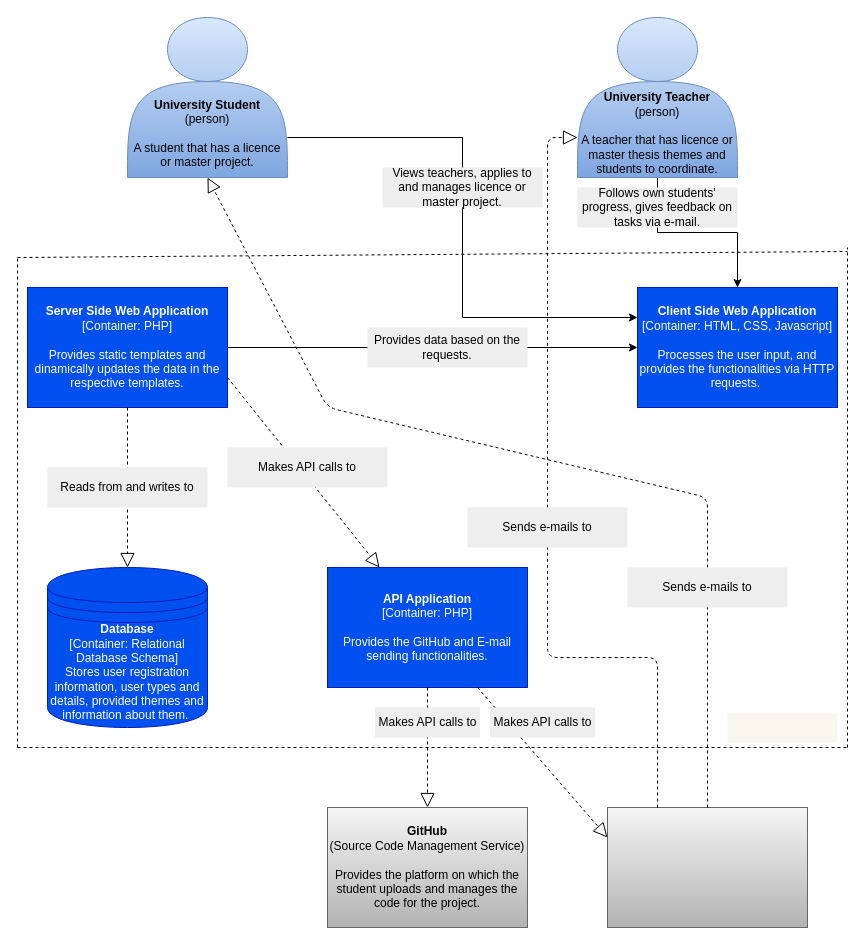
This 866x945 diagram has some shape labels left out. The shapes that lost their labels are listed below. From the top down, each one's centre as x and y in pixels, then its label:
point (782, 727): AcaTisM (Web Application)
point (707, 867): E-mail Service (Software System) via Atom
